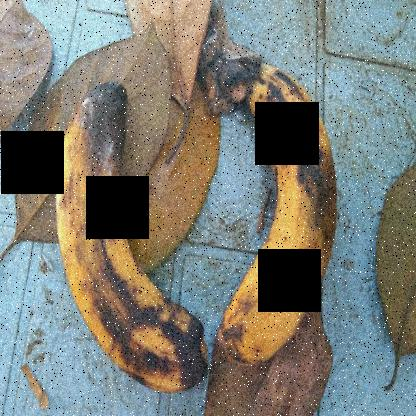overripe: (47, 71, 200, 412), (212, 43, 354, 388)
